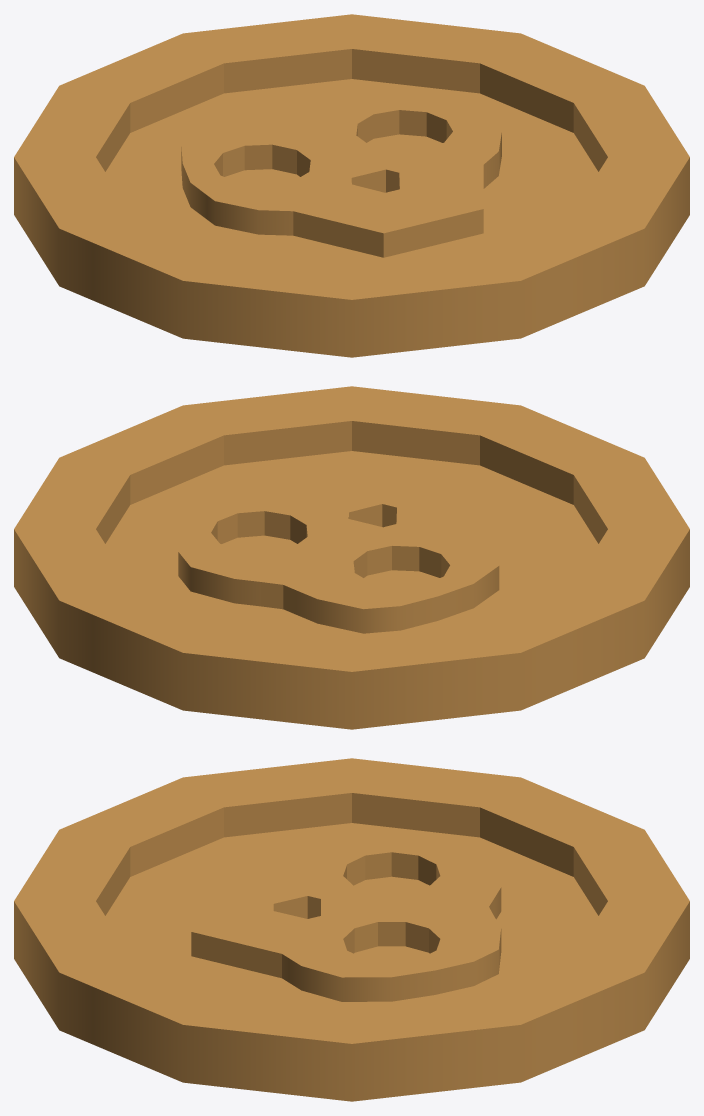
Rendered from moneda_low.fbx.
3 renders of one model, top to bottom at view 1: azimuth 30°, elevation 25°; view 2: azimuth 150°, elevation 25°; view 3: azimuth 270°, elevation 25°, orthographic.
Visible parts, largest first — view 1: moneda_low; view 2: moneda_low; view 3: moneda_low.
Boxes of the visible parts, <box> form: moneda_low: <box>14,14,689,357</box>; moneda_low: <box>14,386,689,729</box>; moneda_low: <box>14,758,689,1101</box>.
Bounding box in the file's own units: 26.5 × 2.5 × 26.5.
